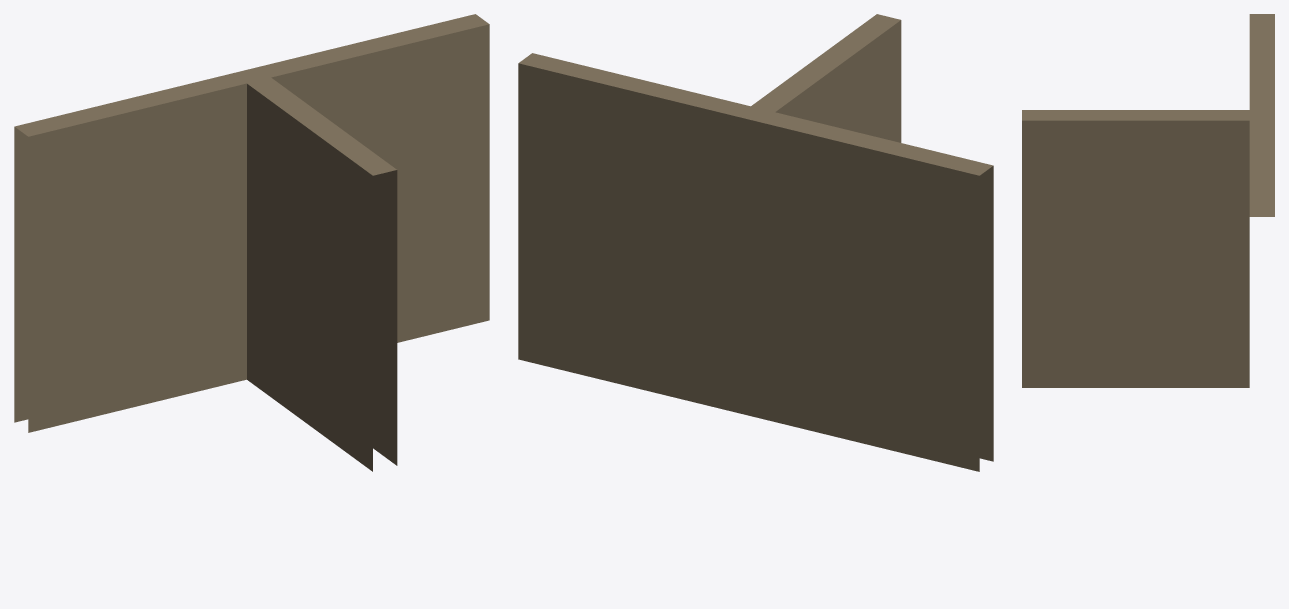
Rendered from SM_Wall_Corner_B_200.fbx.
3 views of the same model, side by side, from view 1: azimuth 30°, elevation 25°; view 2: azimuth 150°, elevation 25°; view 3: azimuth 270°, elevation 25° (orthographic). The views are drawn at different scales.
Visible parts, largest first — view 1: SM_Wall_Corner_B_200; view 2: SM_Wall_Corner_B_200; view 3: SM_Wall_Corner_B_200.
Boxes of the visible parts, <box> form: SM_Wall_Corner_B_200: <box>14,14,489,471</box>; SM_Wall_Corner_B_200: <box>518,14,993,471</box>; SM_Wall_Corner_B_200: <box>1022,14,1274,387</box>.
Bounding box in the file's own units: 380 × 330 × 200.
Materials: 4 (4 with a texture image).
